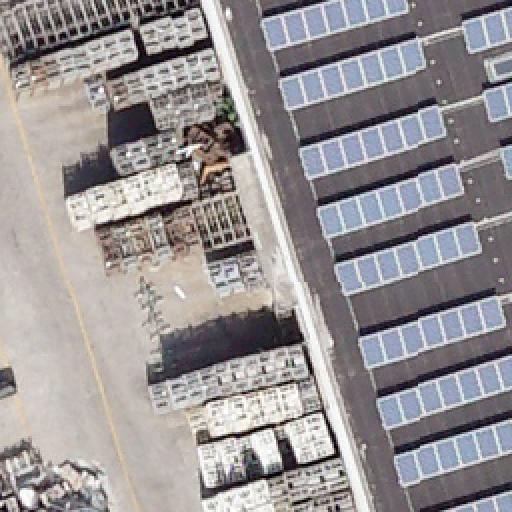solar-panel: (315, 162, 469, 242), (296, 105, 448, 183), (278, 37, 430, 115), (334, 220, 486, 296), (356, 295, 508, 369), (376, 354, 512, 430), (392, 417, 512, 487), (259, 1, 413, 55), (460, 6, 512, 54), (441, 488, 511, 512), (480, 81, 512, 127), (500, 145, 512, 183)
